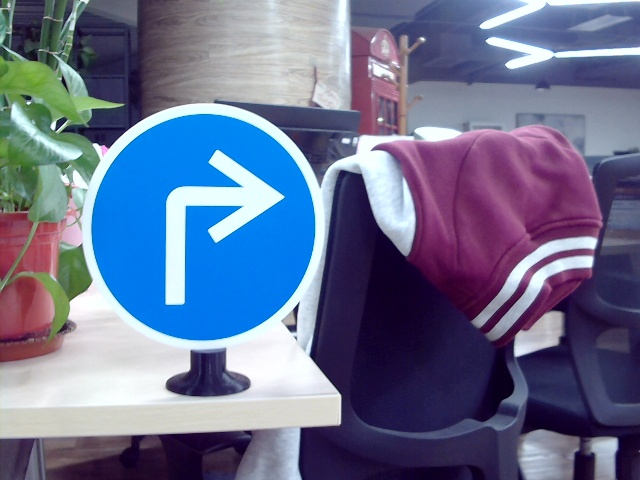turn_right: (148, 144, 282, 304)
